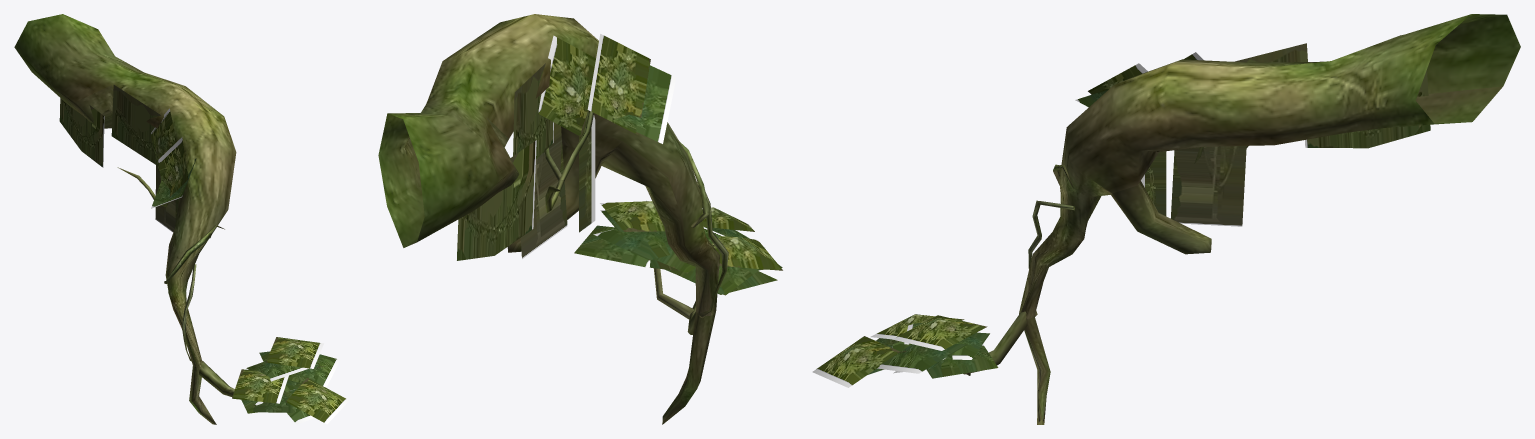
The model's file is S_Tree_Green116_H2.FBX.
3 renders of one model, left to right at view 1: azimuth 30°, elevation 25°; view 2: azimuth 150°, elevation 25°; view 3: azimuth 270°, elevation 25°, orthographic. The views are drawn at different scales.
Visible parts, largest first — view 1: S_Tree_Green116_H2_1, S_Tree_Green116_H2_2; view 2: S_Tree_Green116_H2_1, S_Tree_Green116_H2_2; view 3: S_Tree_Green116_H2_1, S_Tree_Green116_H2_2.
Part boxes in pixels (<box>): S_Tree_Green116_H2_1: <box>14,14,326,424</box>; S_Tree_Green116_H2_2: <box>59,85,349,424</box>; S_Tree_Green116_H2_1: <box>378,14,728,424</box>; S_Tree_Green116_H2_2: <box>457,34,782,295</box>; S_Tree_Green116_H2_1: <box>897,14,1520,424</box>; S_Tree_Green116_H2_2: <box>812,43,1430,387</box>.
Size of the model in its own units: 93.17 by 218 by 339.
